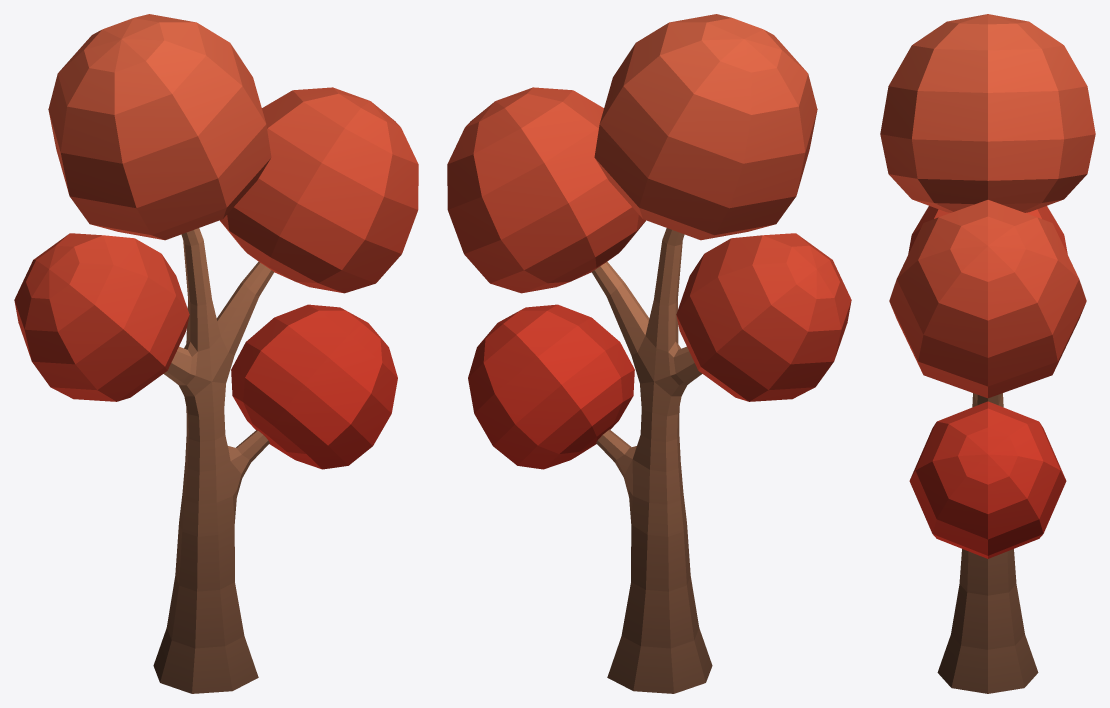
File: autumn tree 3.fbx
3 views of the same model, side by side, from view 1: azimuth 30°, elevation 25°; view 2: azimuth 150°, elevation 25°; view 3: azimuth 270°, elevation 25° (orthographic). The views are drawn at different scales.
Parts seen in each view (by area): view 1: autumn tree 3; view 2: autumn tree 3; view 3: autumn tree 3.
Part boxes in pixels (left/top/right/bottom): autumn tree 3: left=14, top=14, right=418, bottom=693; autumn tree 3: left=447, top=14, right=851, bottom=693; autumn tree 3: left=880, top=14, right=1095, bottom=693.
Size of the model in its own units: 342 by 563 by 175.
